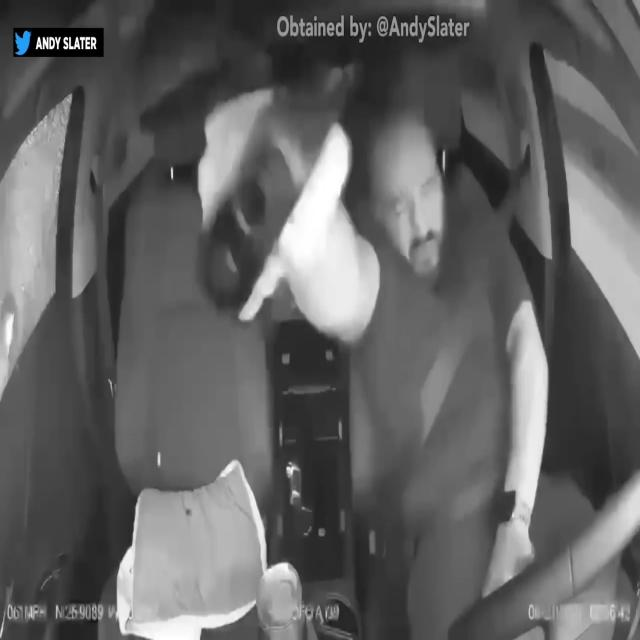senjata_api: (196, 65, 350, 322)
